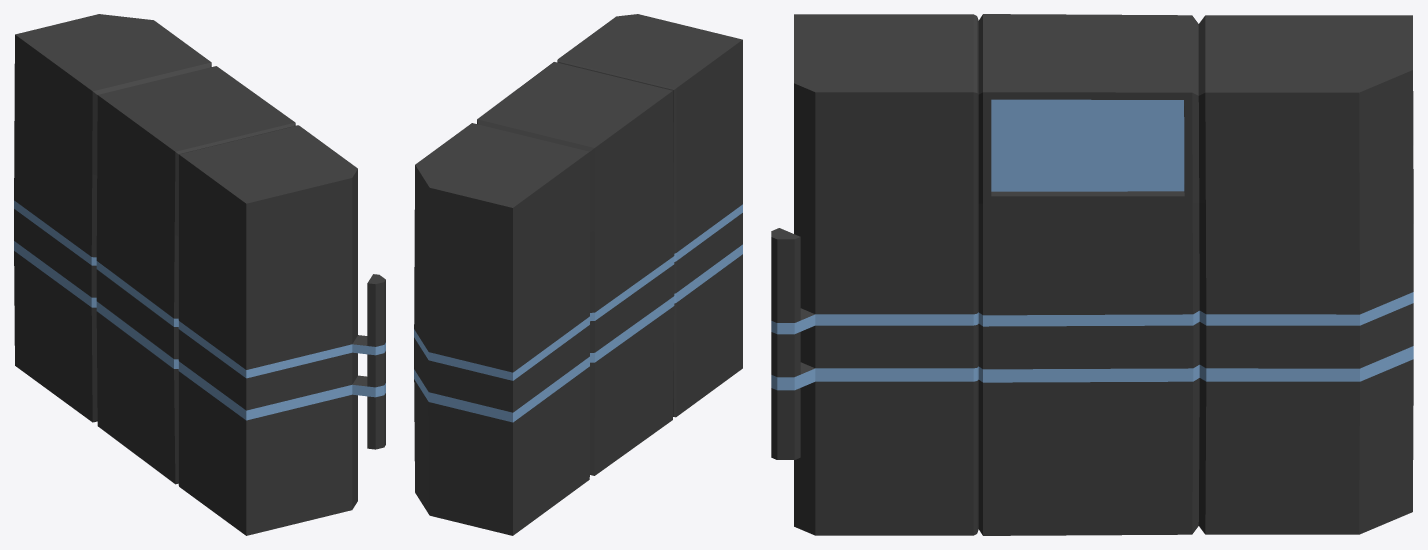
The model's file is holodi.fbx.
The picture shows the model from 3 angles, left to right: view 1: azimuth 30°, elevation 25°; view 2: azimuth 150°, elevation 25°; view 3: azimuth 270°, elevation 25°; orthographic projection. The views are drawn at different scales.
Visible parts, largest first — view 1: Cube.001; view 2: Cube.001; view 3: Cube.001.
Part boxes in pixels (x1,y1,x2,y2): Cube.001: (14,14,385,535); Cube.001: (414,14,742,535); Cube.001: (771,14,1413,535).
Size of the model in its own units: 225 by 530 by 696.
